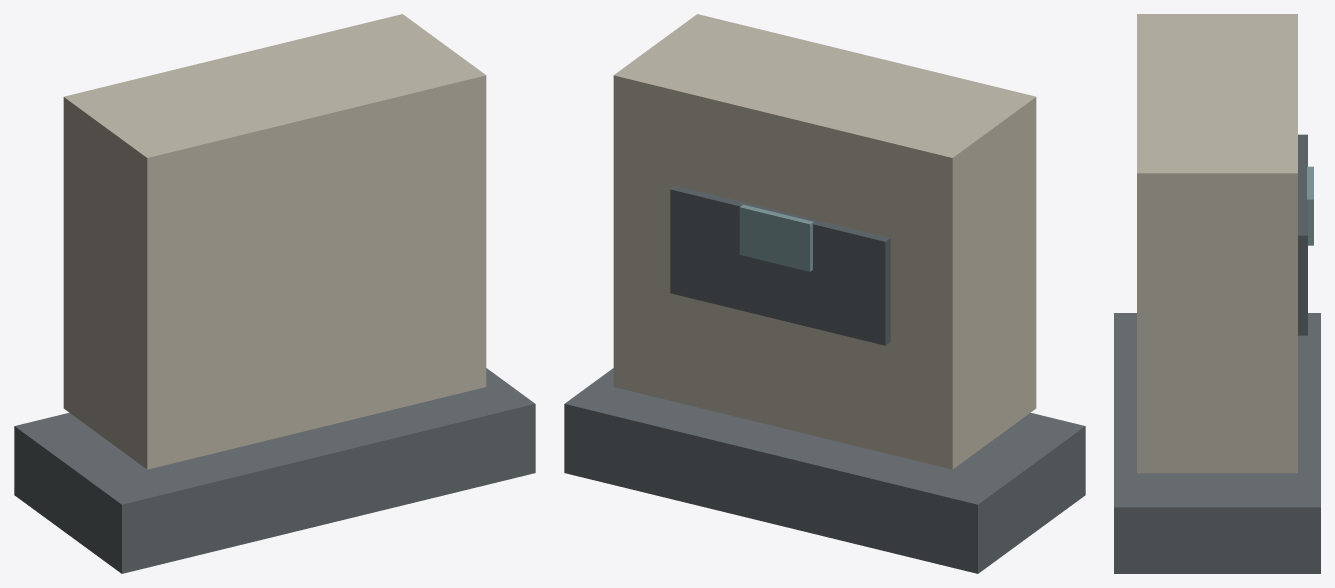
The model's file is iz3_health_morg_01.glb.
The picture shows the model from 3 angles, left to right: view 1: azimuth 30°, elevation 25°; view 2: azimuth 150°, elevation 25°; view 3: azimuth 270°, elevation 25°; orthographic projection. The views are drawn at different scales.
Visible parts, largest first — view 1: cabinet, base; view 2: cabinet, base, panel, display; view 3: cabinet, base, panel, display.
Part boxes in pixels (x1=…): cabinet: x1=63, y1=14, x2=486, y2=469; base: x1=14, y1=368, x2=535, y2=573; cabinet: x1=613, y1=14, x2=1036, y2=469; base: x1=564, y1=368, x2=1085, y2=573; panel: x1=670, y1=185, x2=890, y2=345; display: x1=739, y1=204, x2=813, y2=271; cabinet: x1=1137, y1=14, x2=1297, y2=473; base: x1=1114, y1=313, x2=1320, y2=573; panel: x1=1298, y1=134, x2=1307, y2=335; display: x1=1307, y1=166, x2=1313, y2=245.
Bounding box in the file's own units: 2 × 1.84 × 0.9.
